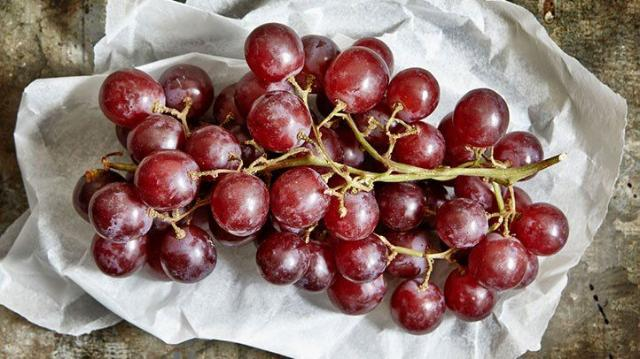Grapes: (76, 24, 568, 332)
